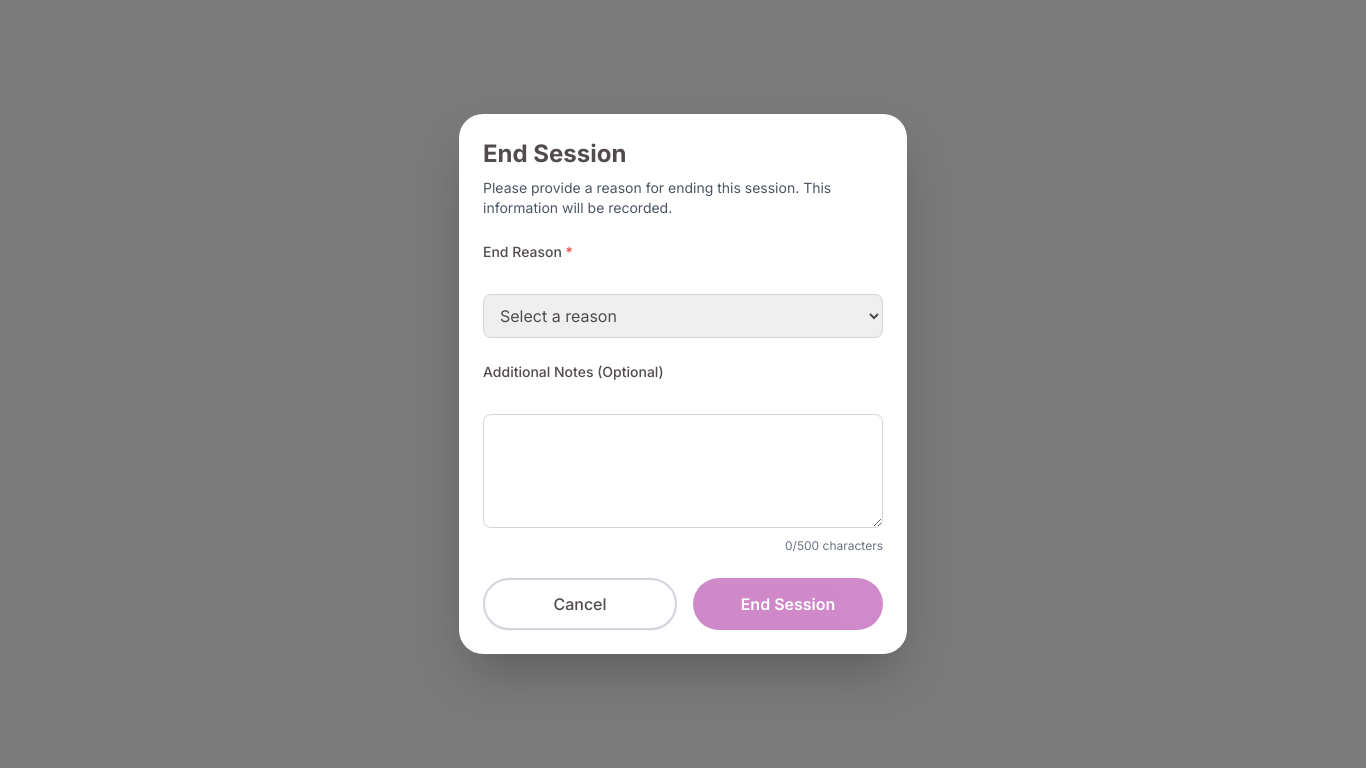
Test: EndSessionModal Integration Tests › should require end reason before submitting
The image size is (1366, 768).
Expected: the button "End Session" is disabled, [693,578,883,630]
// Select a reason
Select "Normal Completion" in the dropdown labelled "End Reason *": [683, 316] box [483,294,883,338]
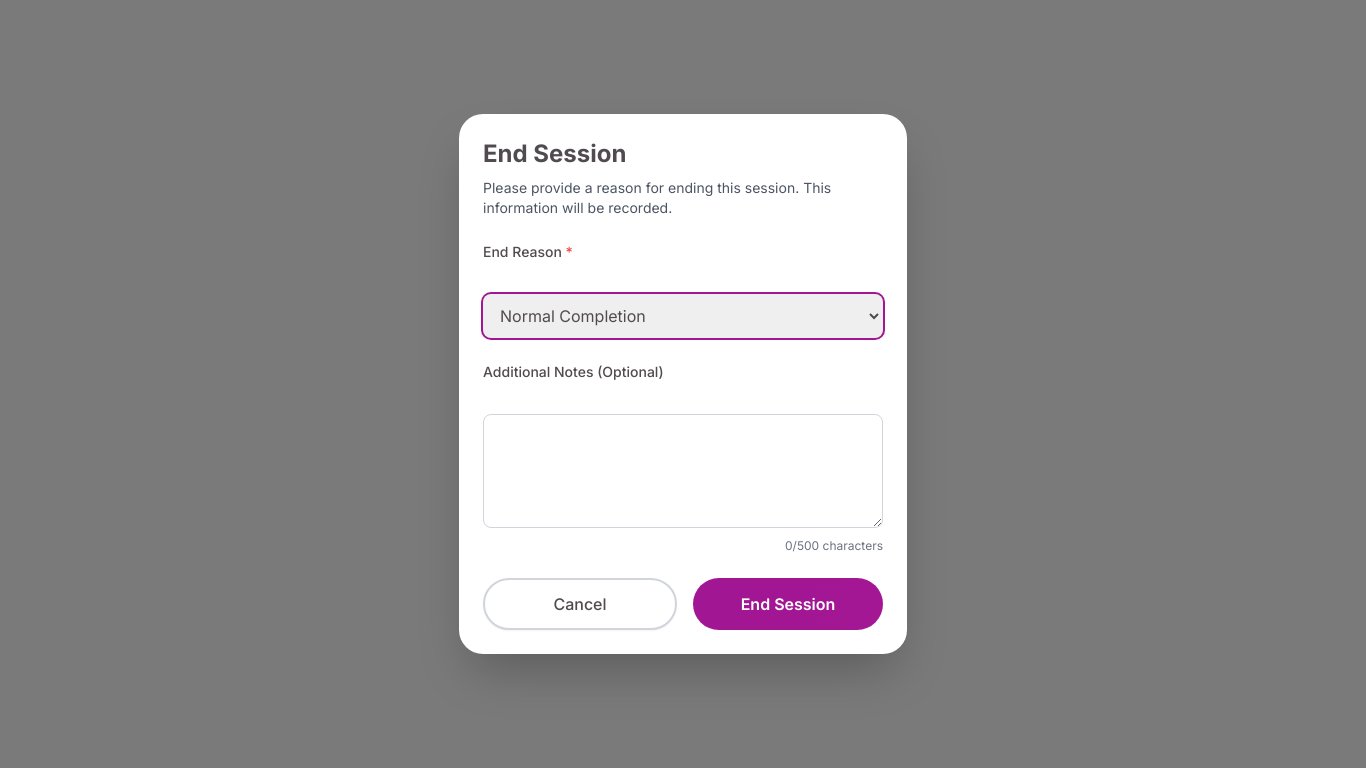
Now the button "End Session" is enabled, box [693,578,883,630]
